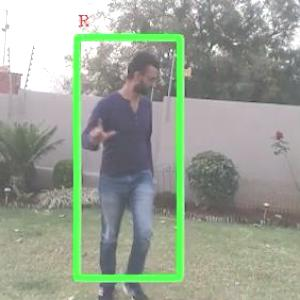land_hand: (86, 114, 117, 142)
